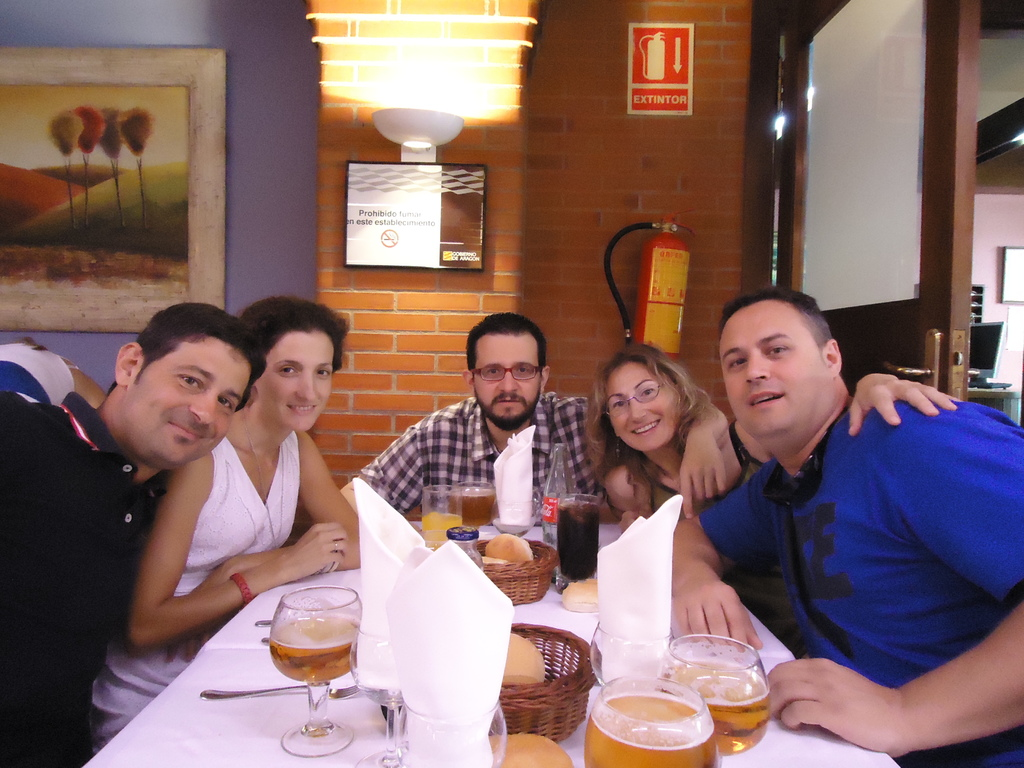Table: (80, 523, 903, 767)
